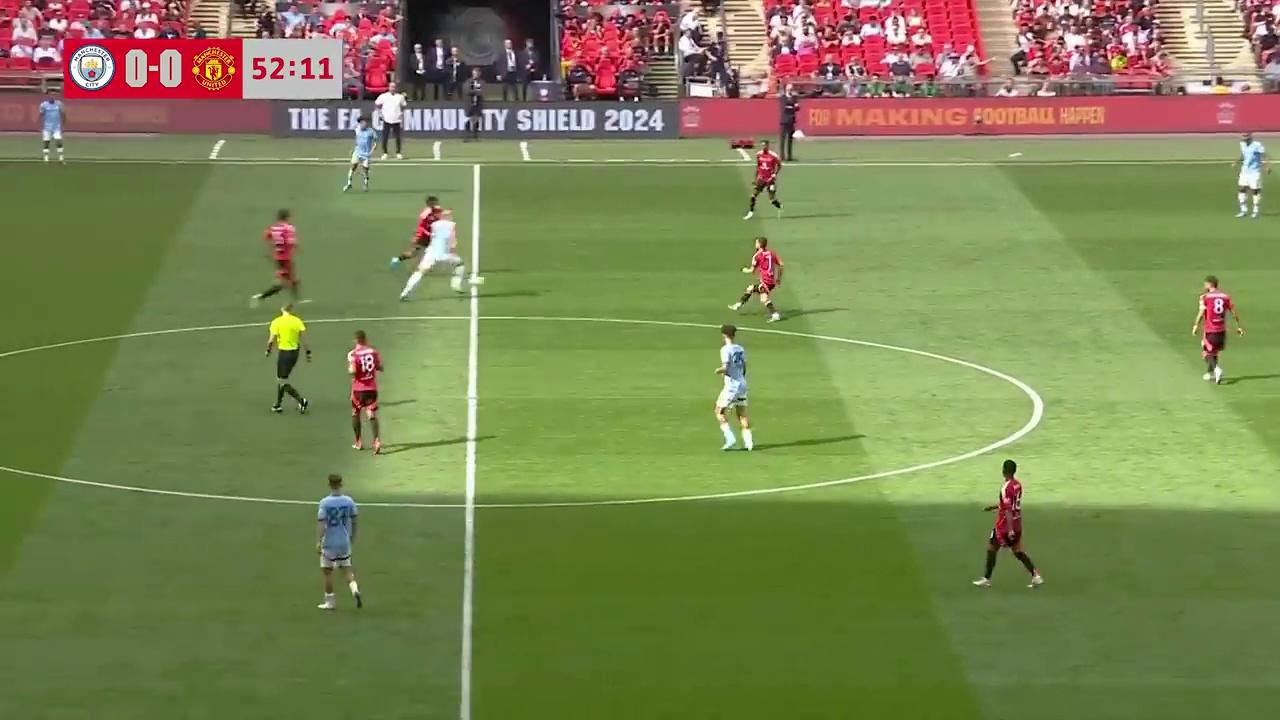ball: (448, 269, 463, 295)
player: (971, 459, 1043, 590), (394, 194, 467, 298), (314, 475, 363, 611), (1191, 276, 1245, 384), (404, 210, 470, 294), (713, 325, 754, 452), (346, 330, 384, 456), (731, 237, 783, 319), (261, 209, 300, 294), (743, 140, 782, 220), (1233, 136, 1268, 219), (38, 94, 67, 166), (343, 127, 373, 192)
referee: (262, 300, 313, 415)
